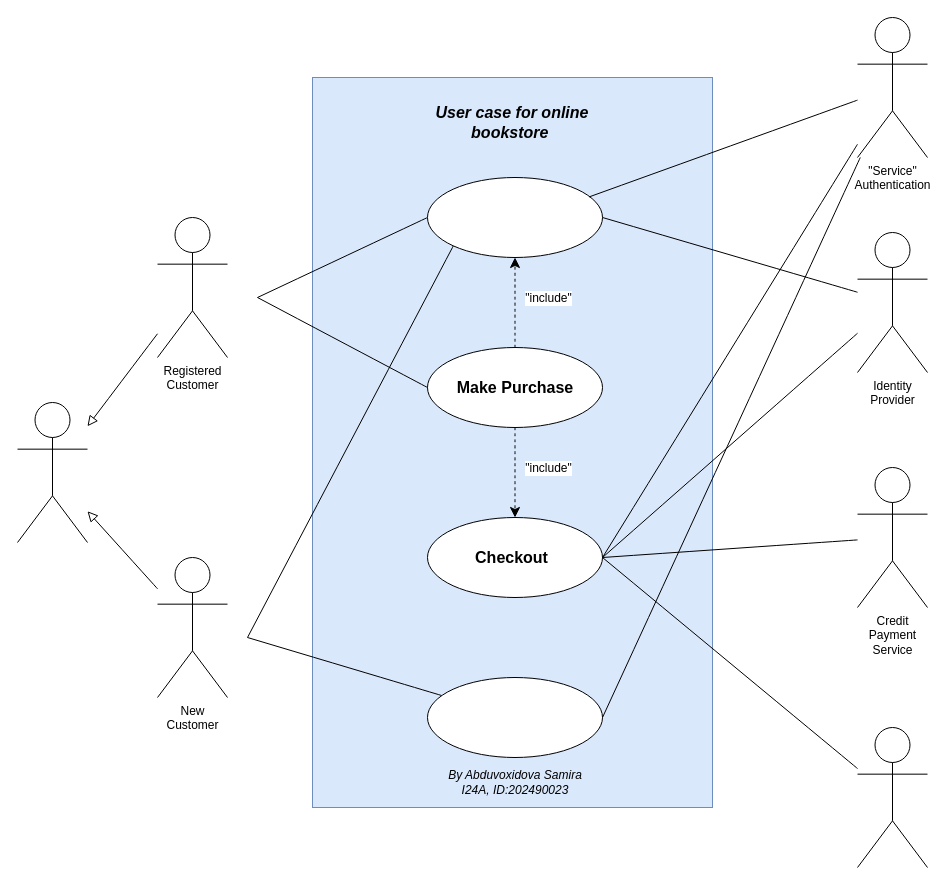
Image size: 948x885. Some labels were removed from this diagram. Here are the shapes that lost their labels. From the top down, the centre of each, then its label:
At (x=514, y=217): "View items".
At (x=52, y=472): "Web Customer".
At (x=514, y=717): "Client Register".
